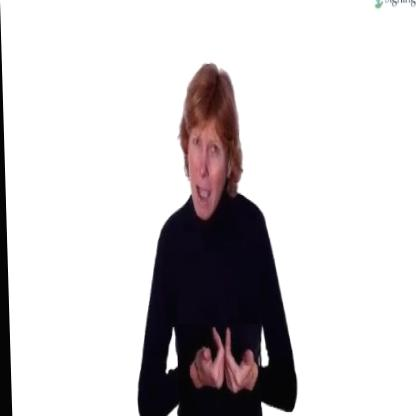HowAreYou: (175, 324, 259, 416)
